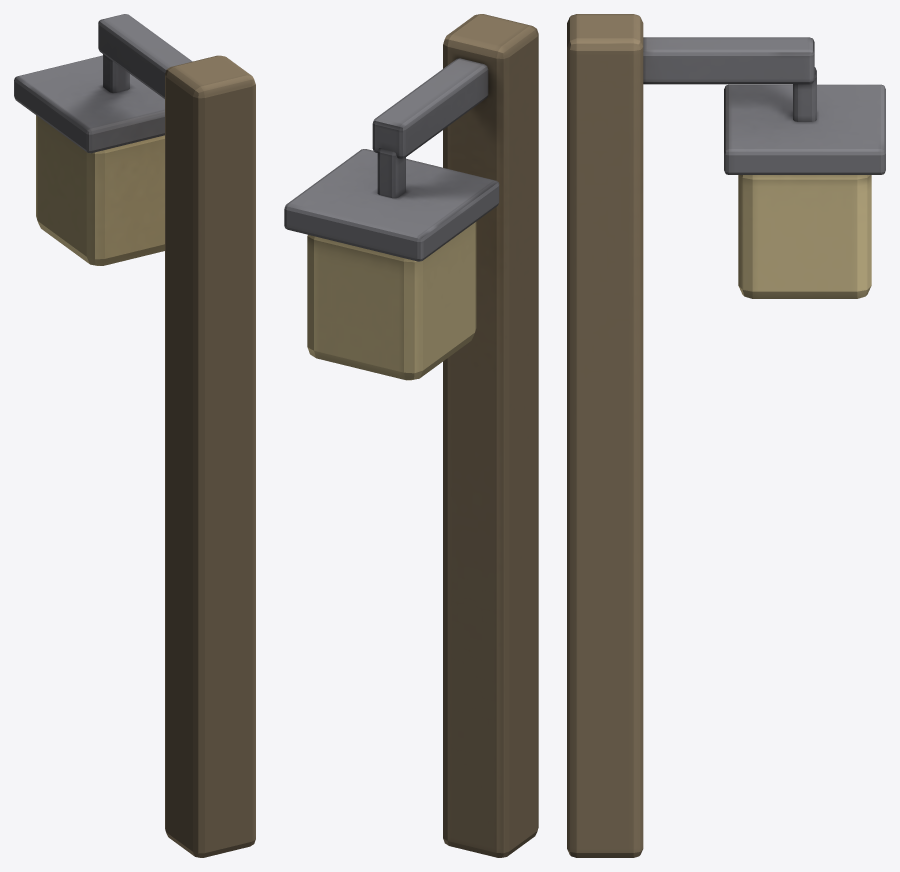
File: lanternpost.glb
3 views of the same model, side by side, from view 1: azimuth 30°, elevation 25°; view 2: azimuth 150°, elevation 25°; view 3: azimuth 270°, elevation 25° (orthographic). The views are drawn at different scales.
Visible parts, largest first — view 1: lanternpost; view 2: lanternpost; view 3: lanternpost.
Part boxes in pixels (x1,y1,x2,y2): lanternpost: (14,14,255,857); lanternpost: (284,14,538,857); lanternpost: (567,14,885,857).
Size of the model in its own units: 0.34 by 1.9 by 0.67.
3 materials, 3 textured.
